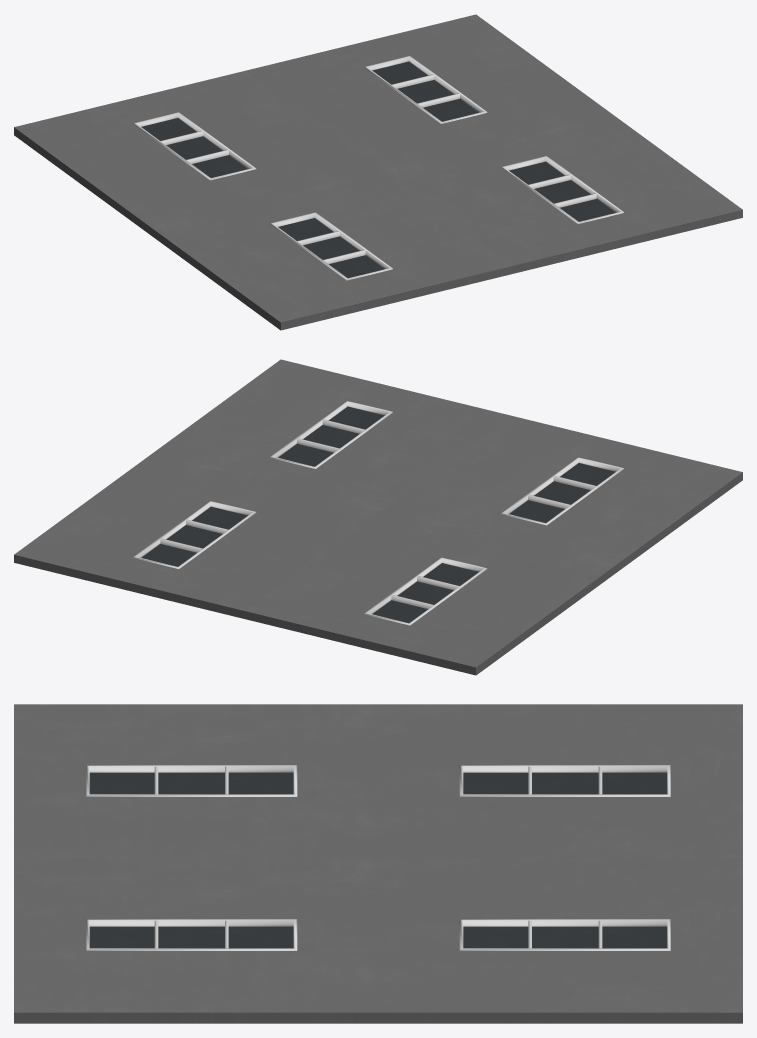
The model's file is SM06_Building_RoofPanel_Flat_02_Skylight.fbx.
The picture shows the model from 3 angles, top to bottom: view 1: azimuth 30°, elevation 25°; view 2: azimuth 150°, elevation 25°; view 3: azimuth 270°, elevation 25°; orthographic projection. The views are drawn at different scales.
Parts seen in each view (by area): view 1: SM06_Building_RoofPanel_Flat_02_Skylight; view 2: SM06_Building_RoofPanel_Flat_02_Skylight; view 3: SM06_Building_RoofPanel_Flat_02_Skylight.
Part boxes in pixels (left/top/right/bottom): SM06_Building_RoofPanel_Flat_02_Skylight: left=14, top=14, right=742, bottom=330; SM06_Building_RoofPanel_Flat_02_Skylight: left=14, top=359, right=742, bottom=675; SM06_Building_RoofPanel_Flat_02_Skylight: left=14, top=704, right=742, bottom=1023.
Bounding box in the file's own units: 30 × 0.5971 × 30.
